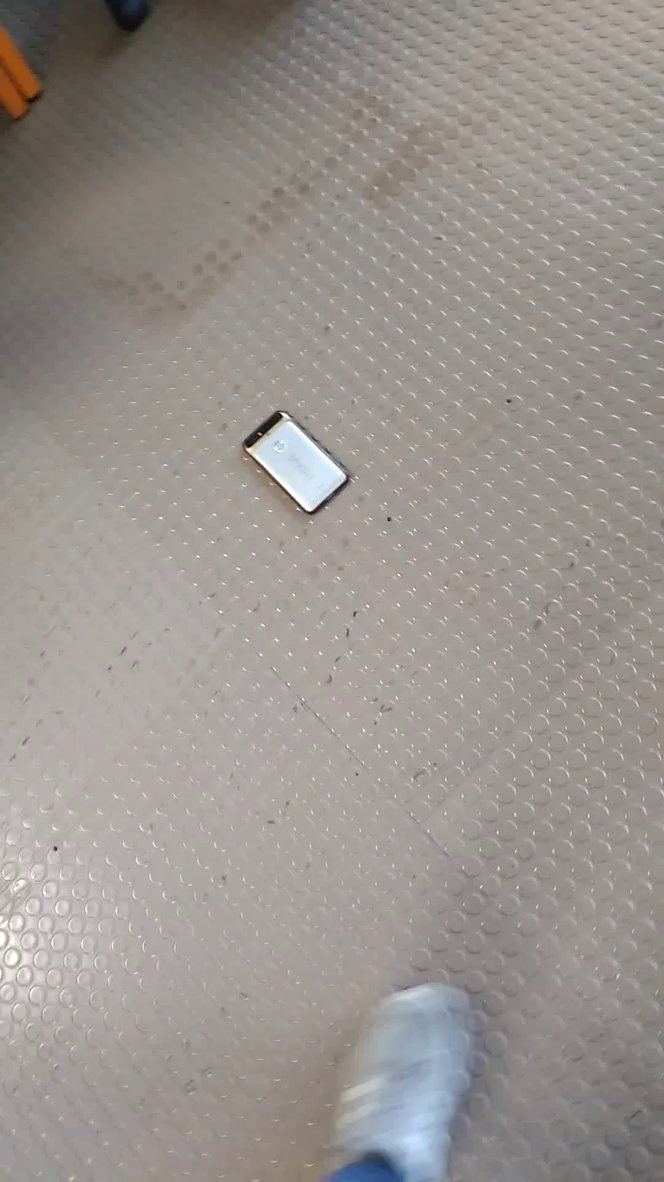phone: (235, 400, 362, 533)
